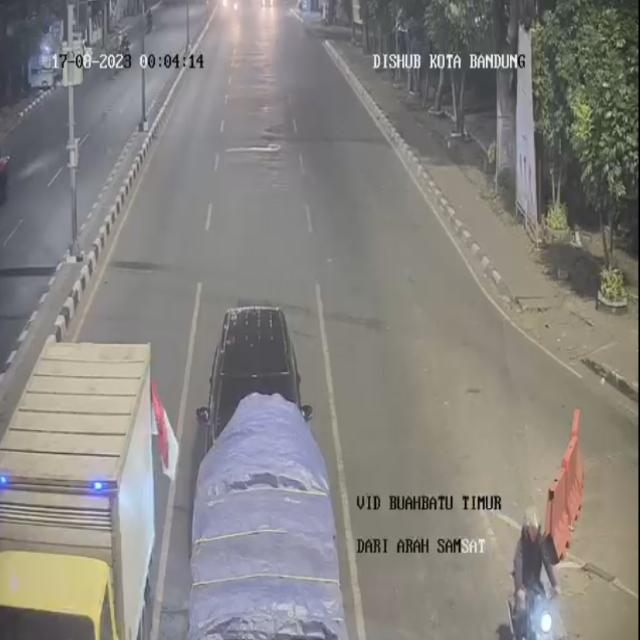cars: (191, 390, 347, 636), (213, 292, 302, 418)
motorcycle: (506, 484, 576, 639)
truck: (0, 335, 159, 640)
